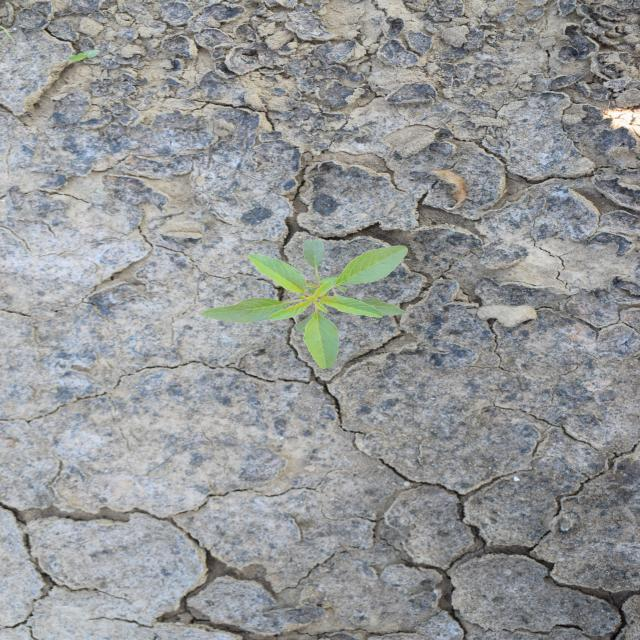Waterhemp: (195, 238, 411, 372)
